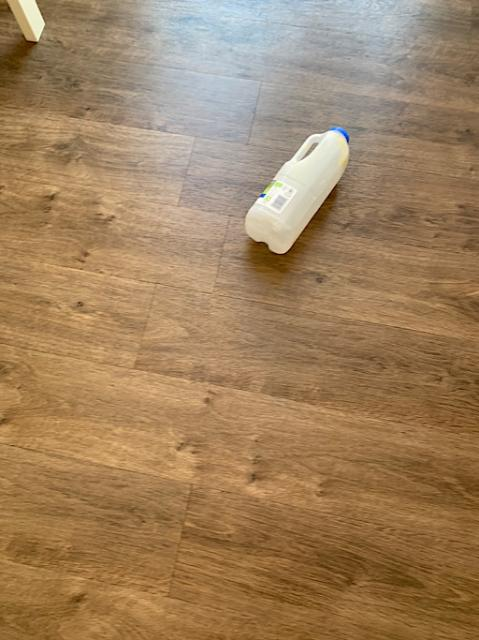plastic: (245, 126, 348, 252)
